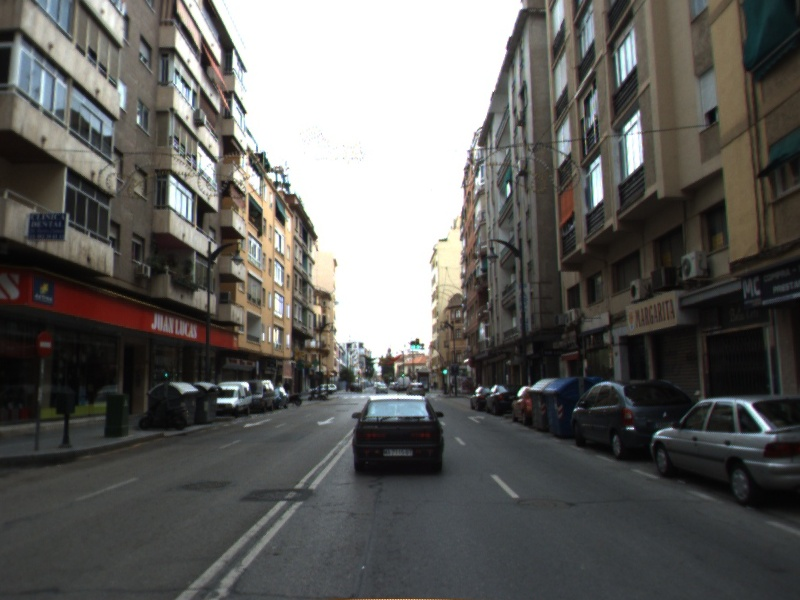RIGHT: (467, 414, 486, 424)
